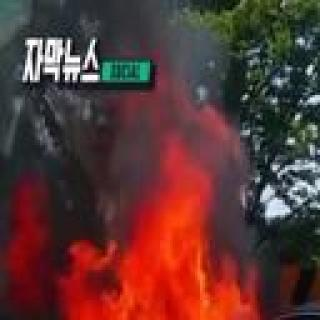fire: (77, 182, 219, 320)
